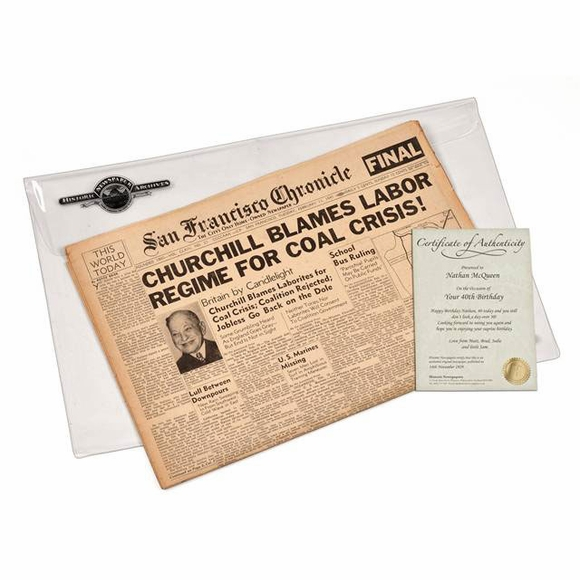news_paper: (52, 81, 553, 494)
